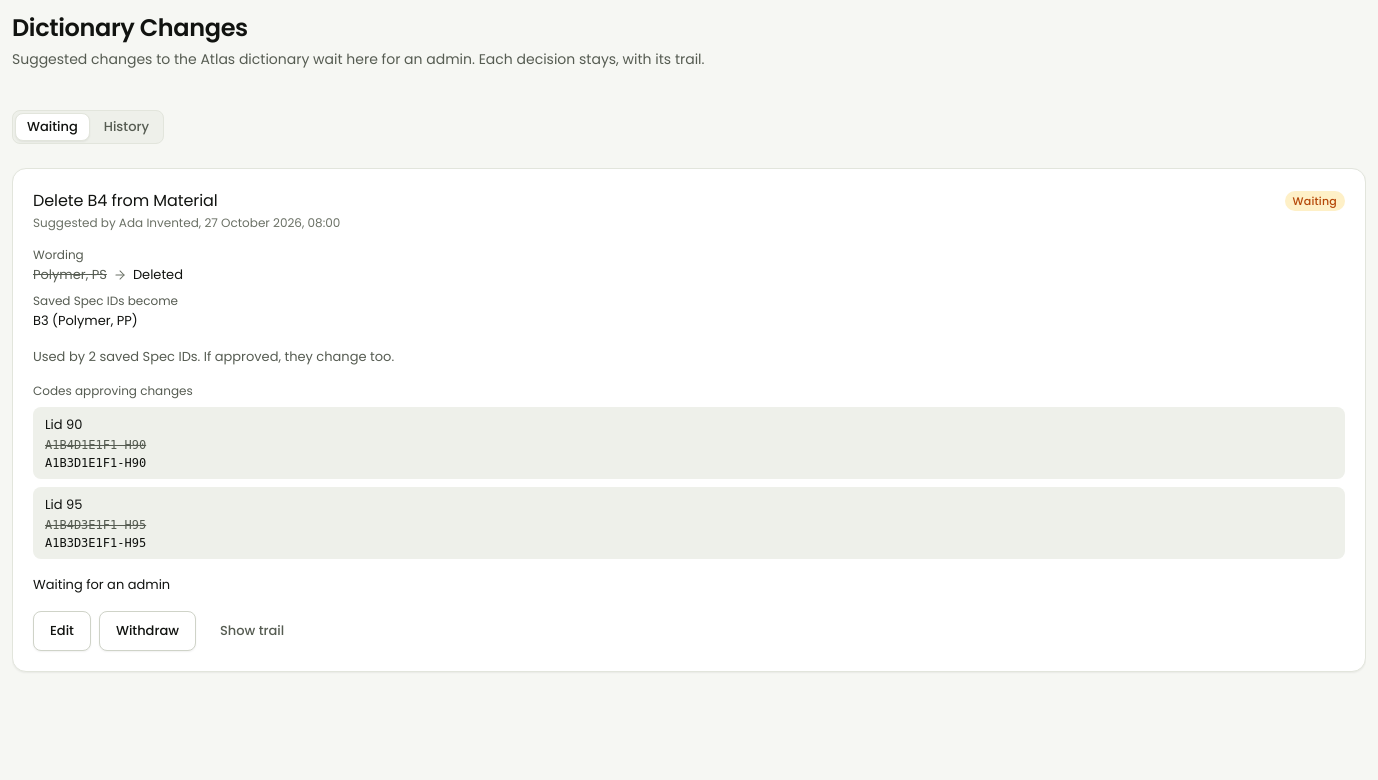
Test: DictionaryChangesPage › says a withdrawal was made, though the card has already left the list
Click the button "Withdraw". click: (147, 631)
box: [99, 611, 196, 651]
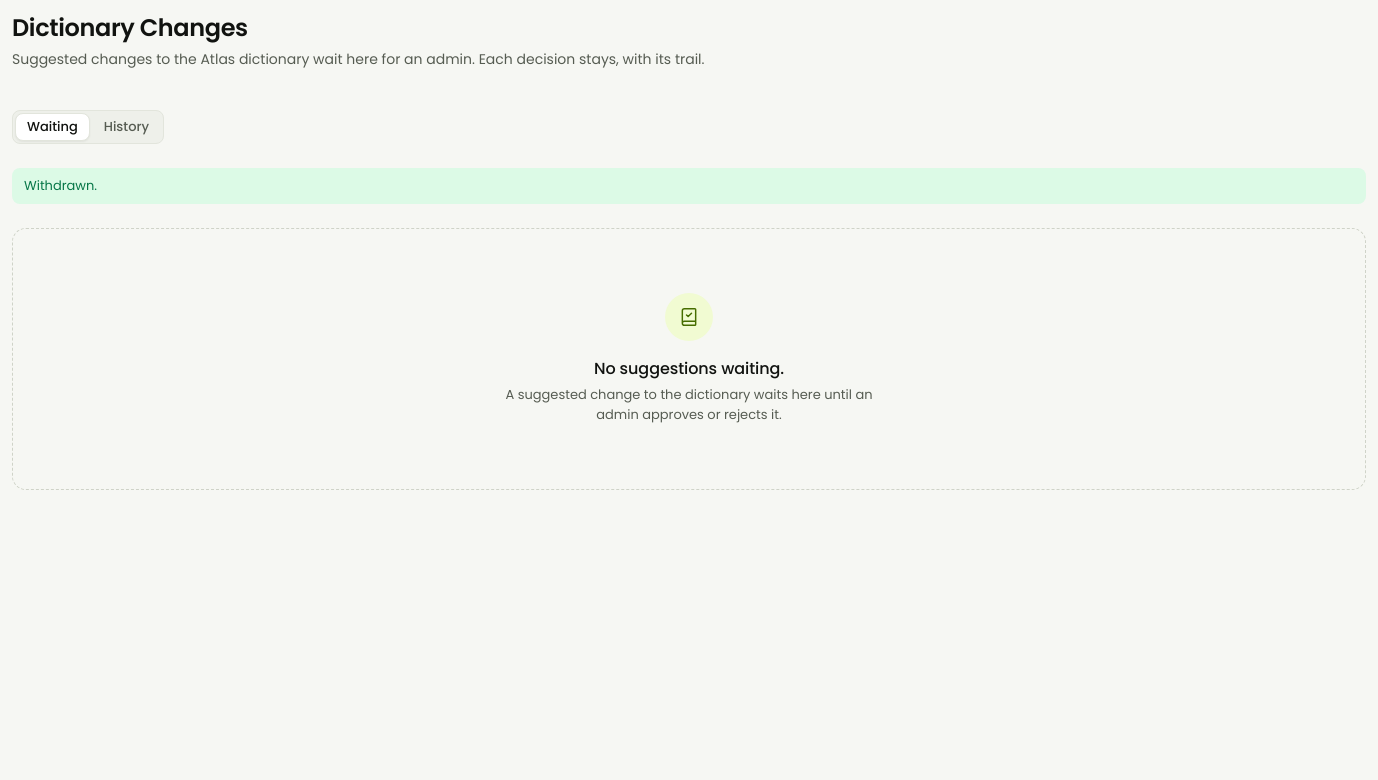
Result: the text "No suggestions waiting." is shown at [594, 357, 784, 380]
Result: the text "Withdrawn." is shown at [12, 168, 1366, 204]
